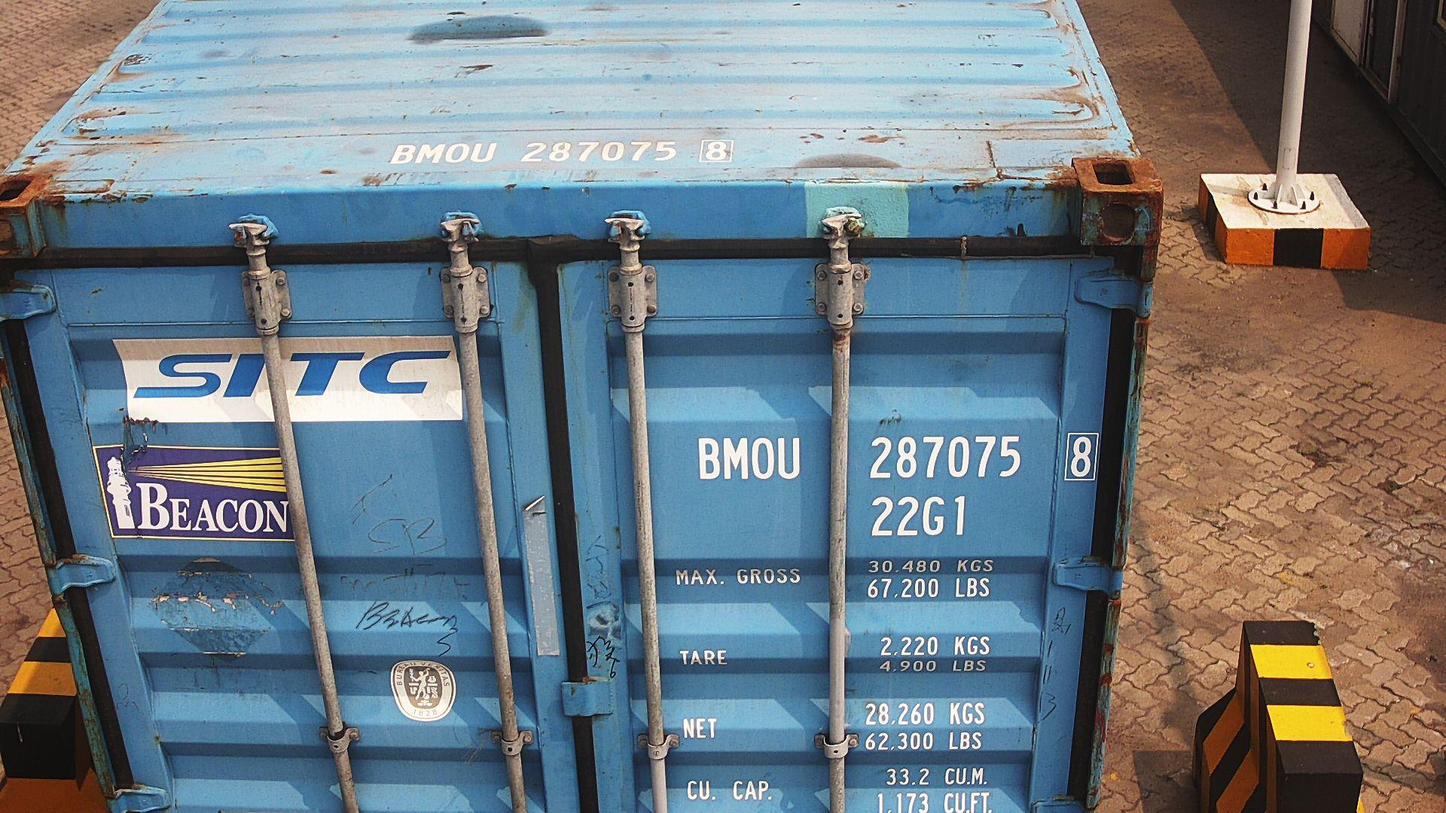container-numbers: (691, 430, 1101, 486), (382, 136, 743, 166), (867, 492, 973, 540)
